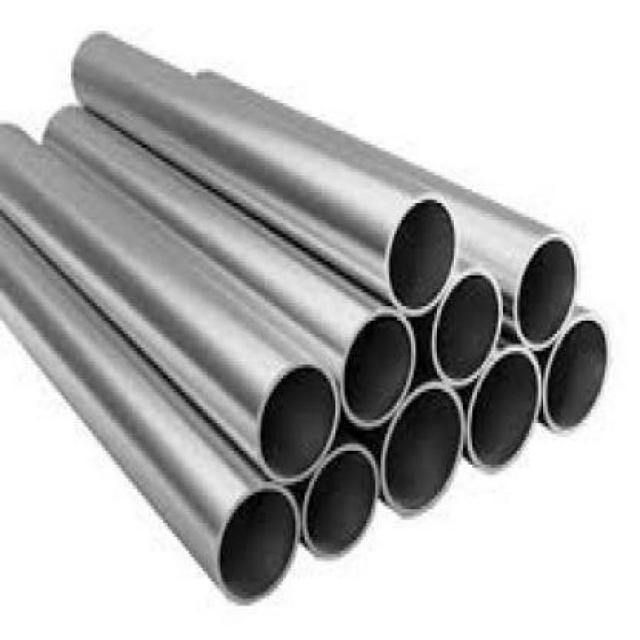pipe: (379, 379, 467, 519), (212, 483, 302, 609), (255, 360, 343, 486), (336, 306, 421, 432), (465, 345, 544, 477), (299, 440, 381, 564), (382, 195, 462, 319), (428, 265, 506, 391), (540, 310, 614, 438), (511, 232, 582, 354)
